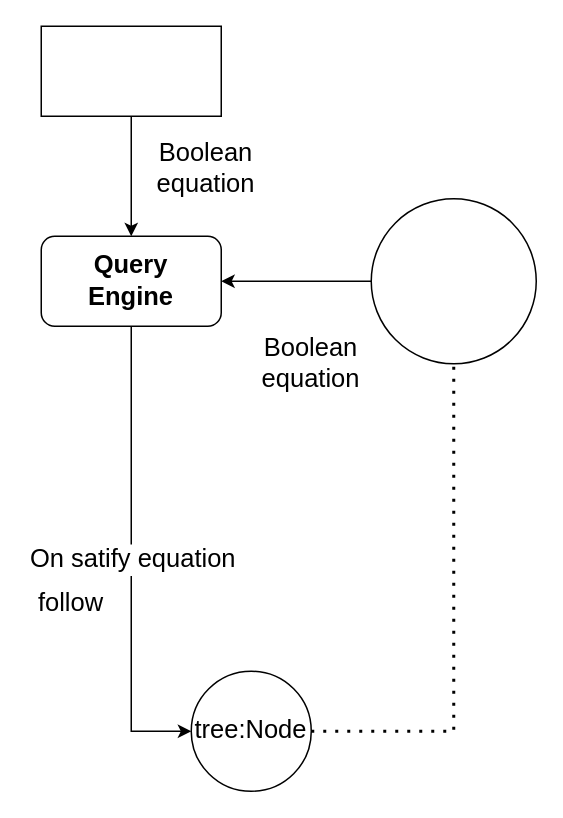
Some shapes in this 563 by 818 pixel diagram are drawn without their labels. The shapes that lost their labels are listed below. From the top down, each one's centre as x and y in pixels, then its label:
At [130,70]: "Filter Expression".
At [453,280]: "tree:Relation".
